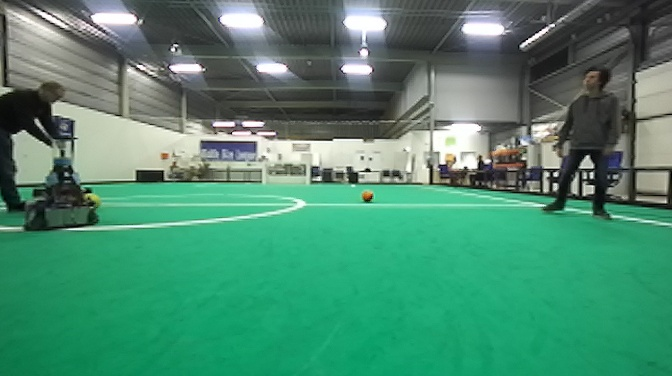ball: (83, 189, 103, 210), (360, 186, 377, 205)
goal: (261, 158, 310, 189)
goalpost: (303, 159, 311, 189), (261, 159, 268, 187)
human: (539, 64, 624, 223), (1, 76, 73, 213)
robot: (23, 132, 102, 236)
